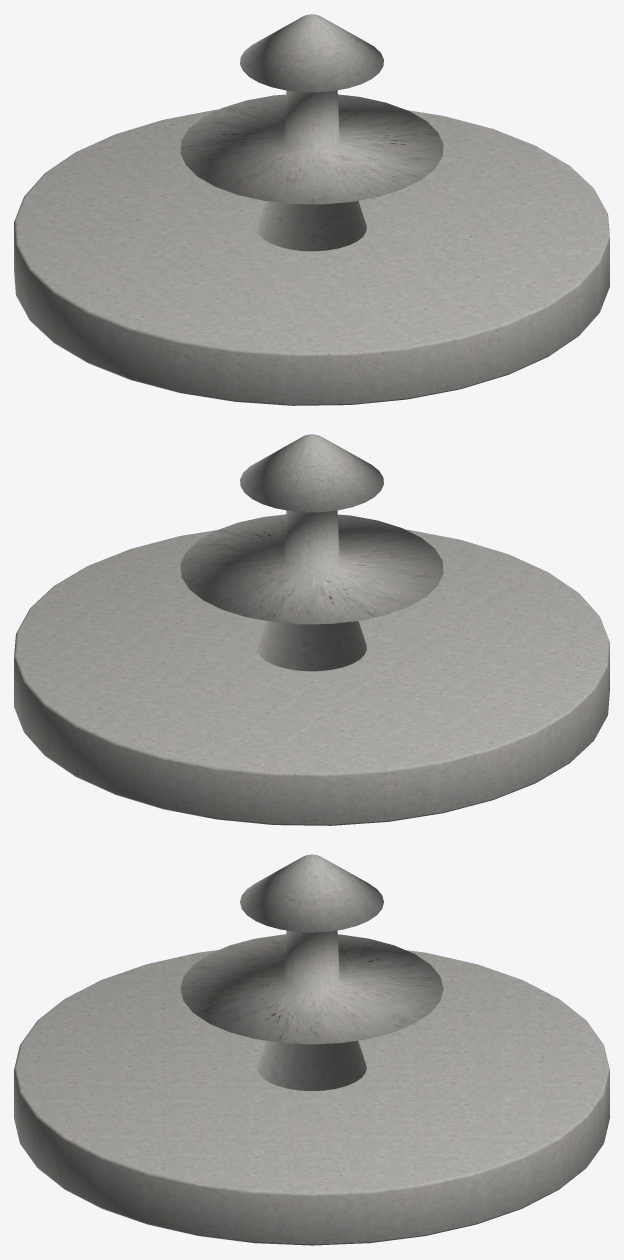
The model's file is fountain-tiered-316758780b4d.glb.
3 renders of one model, top to bottom at view 1: azimuth 30°, elevation 25°; view 2: azimuth 150°, elevation 25°; view 3: azimuth 270°, elevation 25°, orthographic.
Parts seen in each view (by area): view 1: Mesh_Campus_Stone; view 2: Mesh_Campus_Stone; view 3: Mesh_Campus_Stone.
Boxes of the visible parts, bbox=[...] form: Mesh_Campus_Stone: bbox=[14, 14, 609, 405]; Mesh_Campus_Stone: bbox=[14, 434, 609, 825]; Mesh_Campus_Stone: bbox=[14, 854, 609, 1245].
Size of the model in its own units: 4.3 by 2.12 by 4.3.
Materials: 2 (1 with a texture image).
